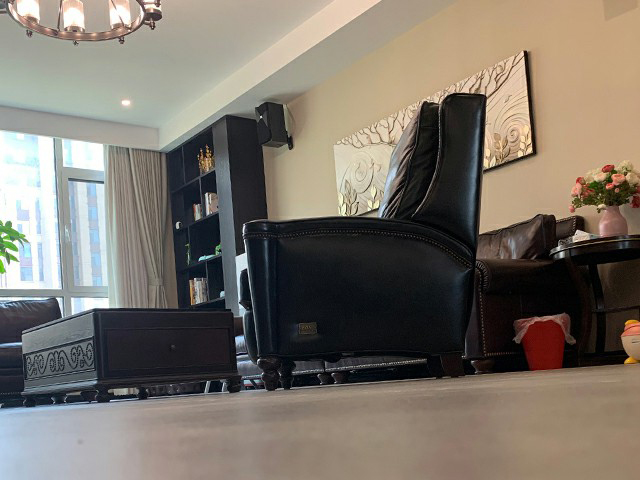sofa: (240, 95, 488, 395), (466, 213, 588, 375)
table: (18, 309, 242, 410)
trashcan: (513, 312, 569, 371)
